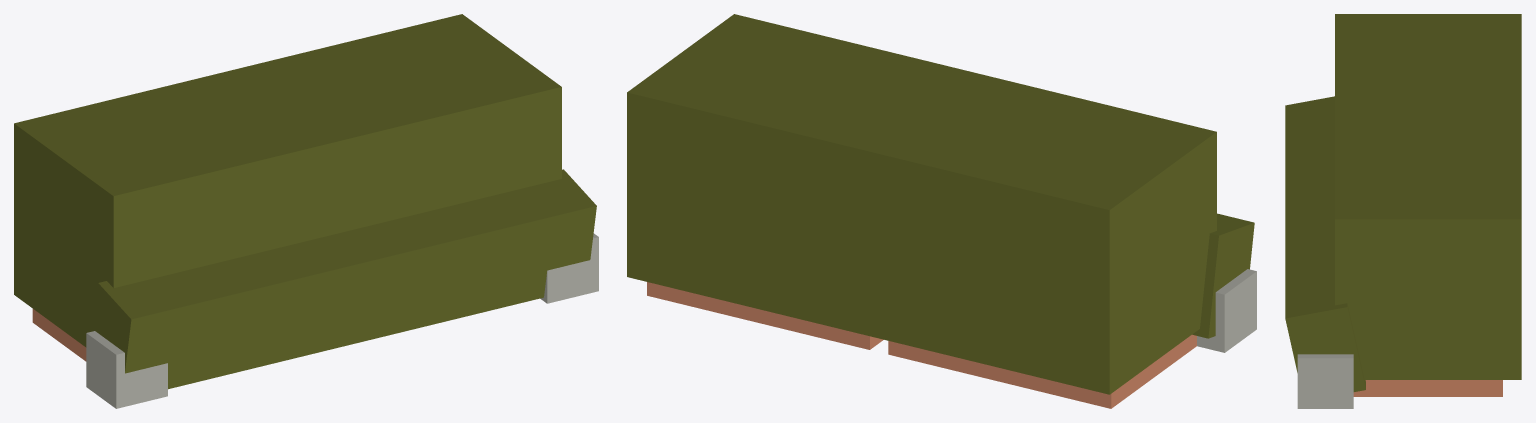
The model's file is SM_Bidones_v3_Lona_LOD1.fbx.
3 views of the same model, side by side, from view 1: azimuth 30°, elevation 25°; view 2: azimuth 150°, elevation 25°; view 3: azimuth 270°, elevation 25° (orthographic). The views are drawn at different scales.
Visible parts, largest first — view 1: SM_sagunto_vivo_v3_LOD1; view 2: SM_sagunto_vivo_v3_LOD1; view 3: SM_sagunto_vivo_v3_LOD1.
Boxes of the visible parts, left/top/right/bottom form: SM_sagunto_vivo_v3_LOD1: left=14, top=14, right=598, bottom=408; SM_sagunto_vivo_v3_LOD1: left=627, top=14, right=1256, bottom=408; SM_sagunto_vivo_v3_LOD1: left=1285, top=14, right=1521, bottom=408.
Size of the model in its own units: 2.8 by 1.08 by 1.27.
